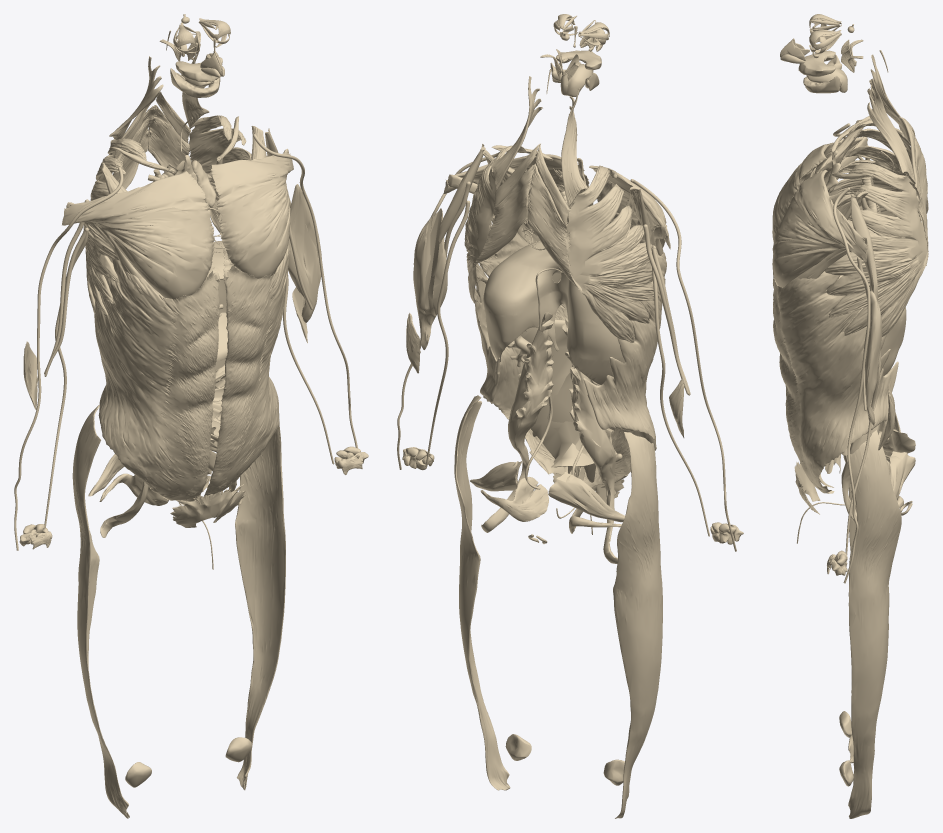
File: male-classified-other.glb
3 renders of one model, left to right at view 1: azimuth 30°, elevation 25°; view 2: azimuth 150°, elevation 25°; view 3: azimuth 270°, elevation 25°, orthographic. The views are drawn at different scales.
Parts seen in each view (by area): view 1: FMA13336, FMA13337, FMA79979, FMA58777, FMA79980, FMA58776, FMA13398, FMA37669, FMA13399, FMA54319, FMA13382, FMA13325 (+11 smaller); view 2: FMA58776, FMA13398, FMA13295, FMA13336, FMA58777, FMA13337, FMA22343, FMA14647, FMA22342, FMA37669, FMA13399, FMA13381 (+16 smaller); view 3: FMA13337, FMA58777, FMA13399, FMA79980, FMA13398, FMA79979, FMA37669, FMA13326, FMA32541, FMA13295, FMA37666, FMA13382 (+14 smaller).
Part boxes in pixels (box(x1,y1,x2,y2)): FMA13336: box(94, 259, 219, 501); FMA13337: box(204, 243, 290, 496); FMA79979: box(62, 171, 214, 299); FMA58777: box(235, 413, 285, 790); FMA79980: box(210, 151, 293, 278); FMA58776: box(72, 405, 129, 818); FMA13398: box(83, 138, 146, 316); FMA37669: box(288, 184, 321, 322); FMA13399: box(189, 115, 251, 233); FMA54319: box(170, 484, 245, 527); FMA13382: box(148, 105, 189, 175); FMA13325: box(14, 167, 123, 550); FMA58776: box(613, 432, 662, 818); FMA13398: box(567, 165, 658, 342); FMA13295: box(483, 236, 635, 384); FMA13336: box(583, 245, 666, 487); FMA58777: box(454, 395, 510, 790); FMA13337: box(475, 215, 581, 478); FMA22343: box(481, 312, 553, 532); FMA14647: box(521, 319, 614, 467); FMA22342: box(562, 317, 617, 563); FMA37669: box(413, 208, 447, 349); FMA13399: box(464, 145, 526, 305); FMA13381: box(527, 164, 581, 291); FMA13337: box(773, 271, 898, 493); FMA58777: box(846, 430, 901, 818); FMA13399: box(824, 163, 927, 336); FMA79980: box(772, 170, 868, 287); FMA13398: box(829, 120, 921, 220); FMA79979: box(772, 136, 868, 242); FMA37669: box(864, 283, 882, 425); FMA13326: box(833, 187, 870, 583); FMA32541: box(867, 78, 915, 183); FMA13295: box(826, 219, 906, 375); FMA37666: box(850, 194, 877, 301); FMA13382: box(915, 140, 928, 268).
Size of the model in its own units: 0.5635 by 1.22 by 0.2254.
